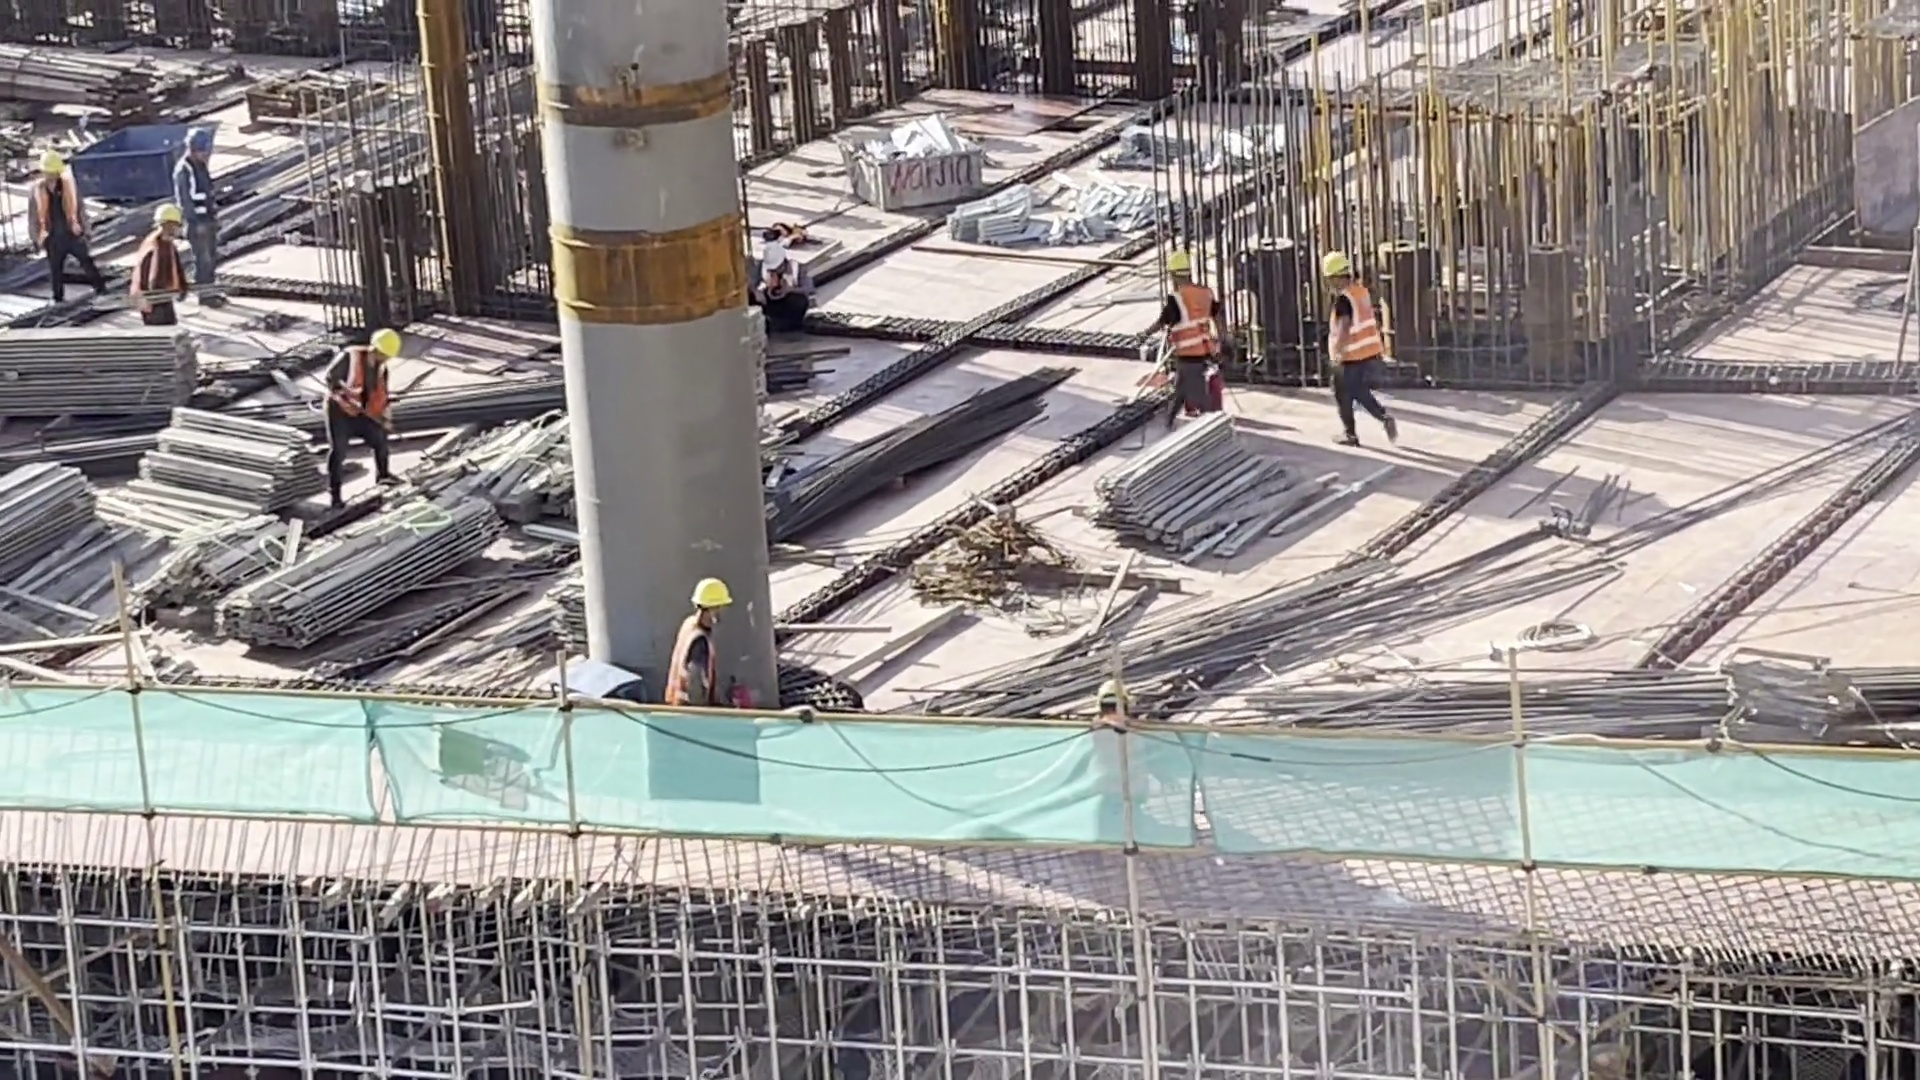helmet: (675, 569, 736, 609), (356, 320, 410, 363), (1319, 245, 1359, 282), (37, 146, 69, 178), (154, 202, 184, 232), (181, 134, 210, 157), (1169, 256, 1195, 276), (764, 246, 786, 265)
person: (1306, 243, 1422, 450), (1141, 242, 1234, 426), (14, 137, 96, 311), (321, 323, 403, 493), (167, 117, 238, 285), (664, 571, 747, 711), (126, 193, 195, 338), (741, 217, 803, 308)
vest: (656, 622, 729, 708), (326, 341, 388, 423), (1166, 286, 1223, 369), (1328, 291, 1388, 368), (23, 189, 86, 245), (136, 231, 186, 297), (174, 153, 219, 224)
